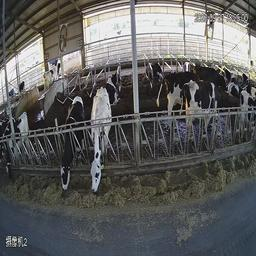cow: (180, 79, 234, 143), (88, 82, 113, 198), (59, 91, 85, 195), (2, 108, 33, 187), (160, 67, 185, 136), (195, 56, 229, 87), (239, 83, 255, 144), (102, 65, 124, 105), (39, 59, 64, 90), (145, 58, 164, 83)
